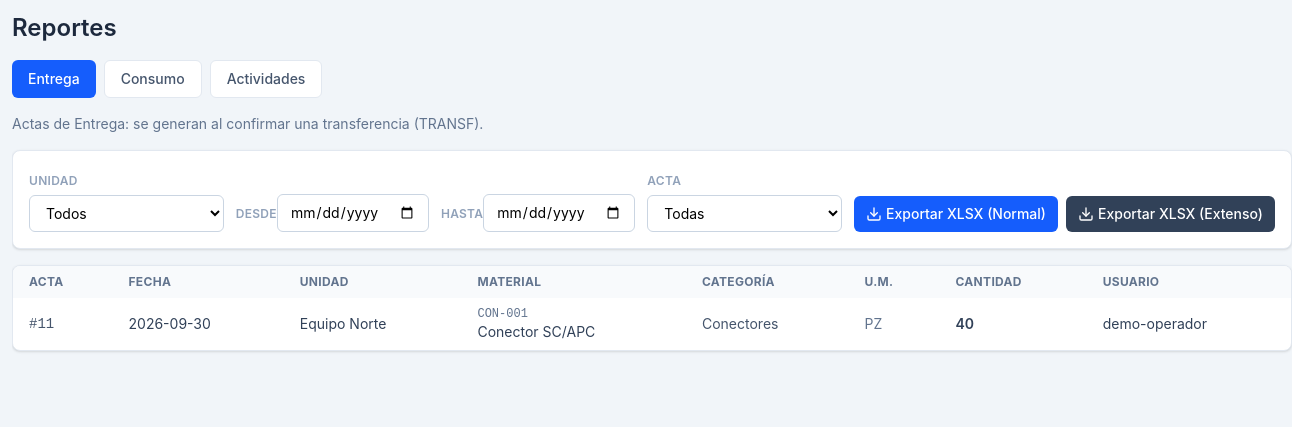
Reportes — exportación XLSX (descarga de blob) › Normal: descarga con los filtros, usa el nombre del servidor, libera el object URL y confirma
Select "Equipo Norte" in the dropdown labelled "Unidad": (126, 214) [29, 195, 224, 232]
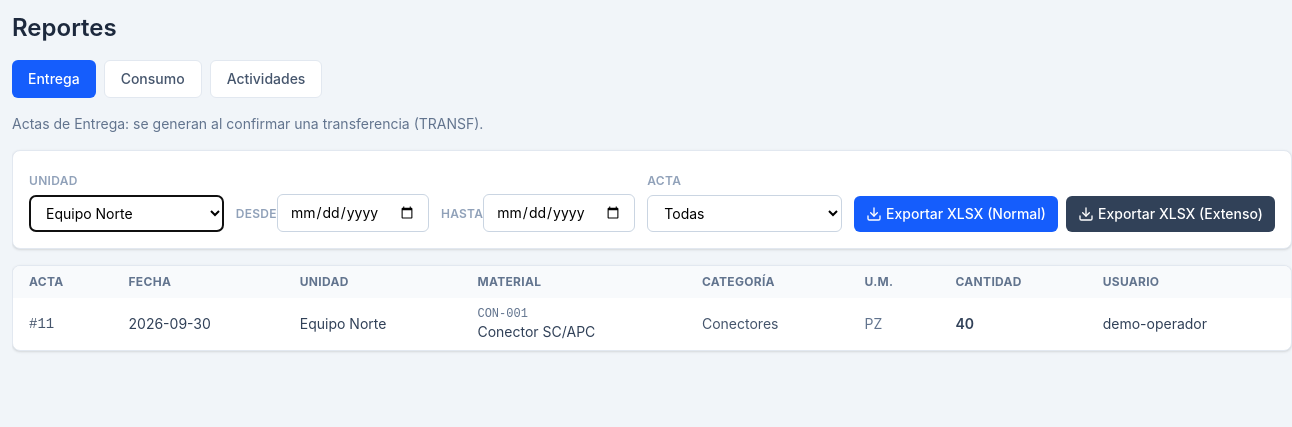
Click the button "Exportar XLSX (Normal)": (956, 214) [854, 196, 1058, 232]
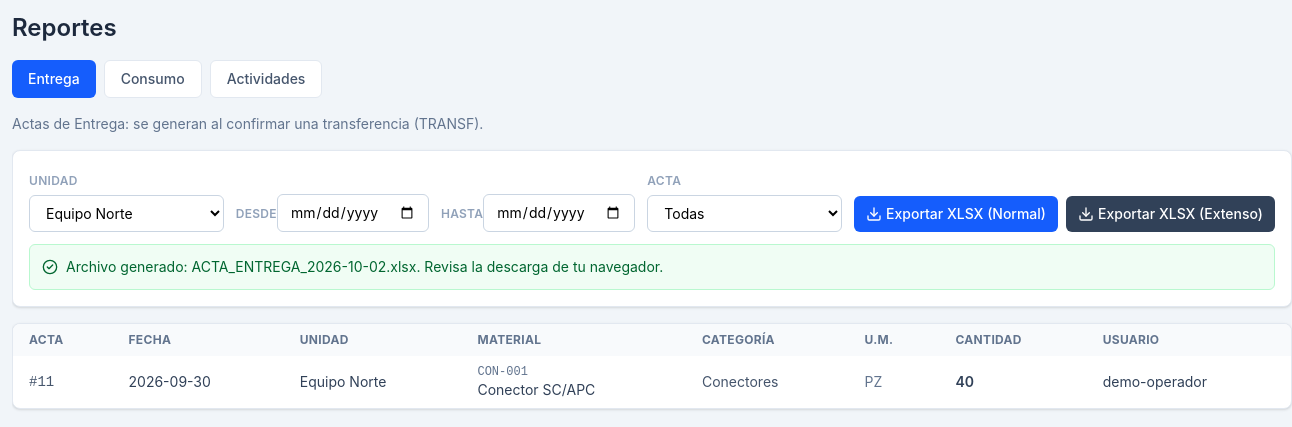
Result: the text "Archivo generado: ACTA_ENTREGA_2026-10-02.xlsx" is shown at [66, 258, 420, 275]
